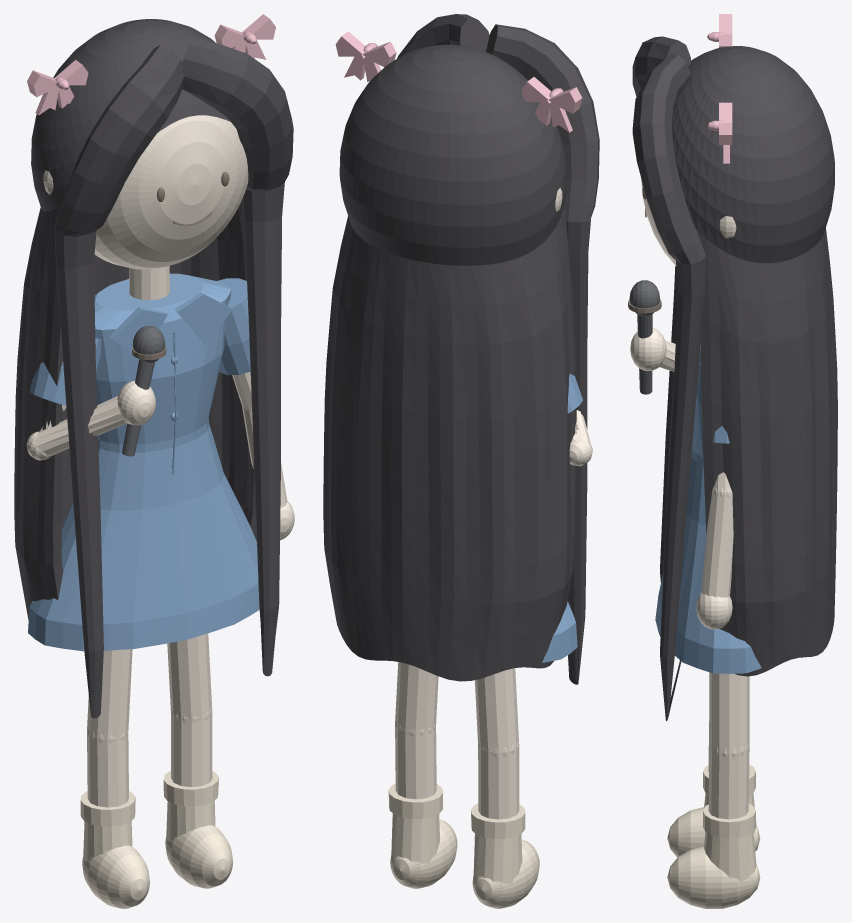
File: 01_blackhair_singer.glb
3 renders of one model, left to right at view 1: azimuth 30°, elevation 25°; view 2: azimuth 150°, elevation 25°; view 3: azimuth 270°, elevation 25°, orthographic. The views are drawn at different scales.
Parts seen in each view (by area): view 1: hairblack, blue, skin, cream, pink, mic; view 2: hairblack, skin, cream, pink, blue; view 3: hairblack, skin, cream, blue, mic, pink.
Boxes of the visible parts, bbox=[...] form: hairblack: bbox=[14, 19, 293, 718]; blue: bbox=[28, 273, 259, 651]; skin: bbox=[26, 115, 294, 807]; cream: bbox=[80, 770, 232, 908]; pink: bbox=[27, 14, 275, 115]; mic: bbox=[122, 325, 165, 456]; hairblack: bbox=[323, 14, 599, 684]; skin: bbox=[395, 188, 592, 819]; cream: bbox=[388, 783, 539, 908]; pink: bbox=[335, 31, 582, 132]; blue: bbox=[542, 373, 582, 662]; hairblack: bbox=[632, 36, 837, 720]; skin: bbox=[630, 179, 749, 819]; cream: bbox=[667, 764, 760, 908]; blue: bbox=[655, 344, 761, 673]; mic: bbox=[629, 280, 659, 394]; pink: bbox=[707, 14, 732, 163].
Bounding box in the file's own units: 0.5095 × 1.61 × 0.3637.
